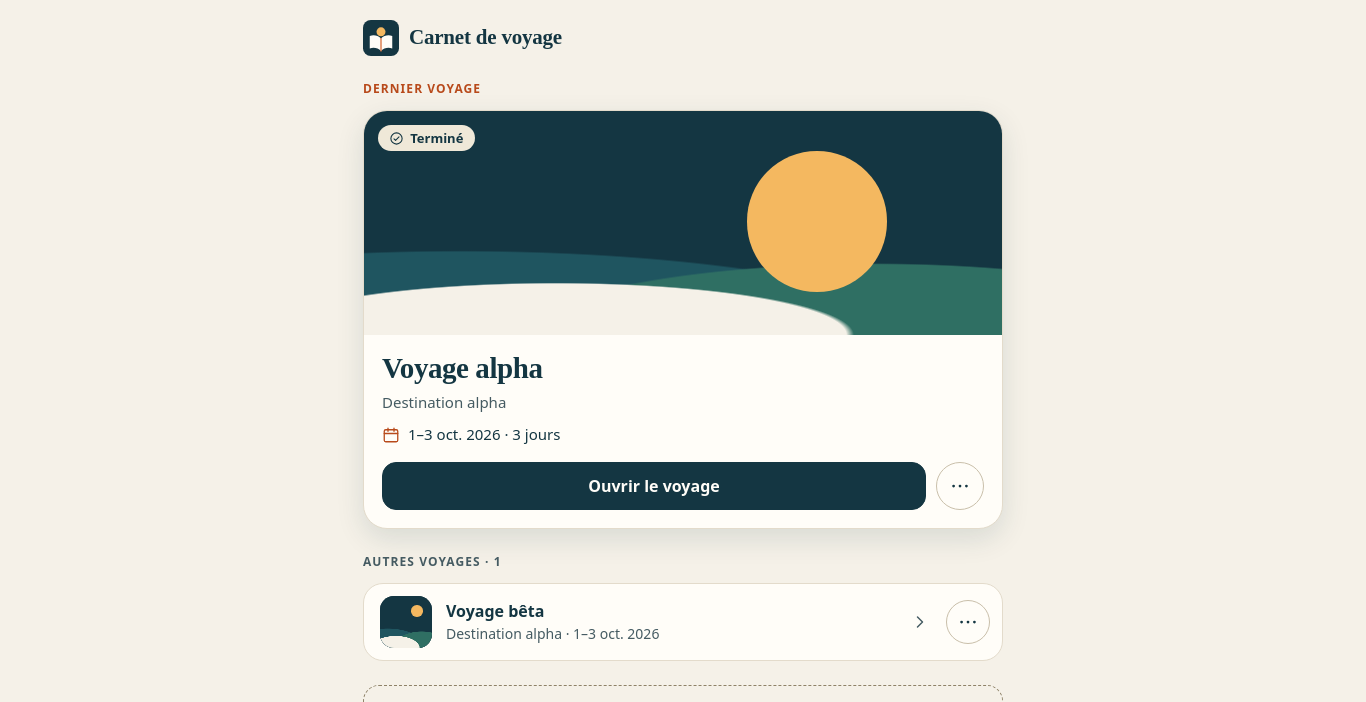
Scenario: App › charge uniquement le voyage sélectionné parmi plusieurs entrées
The width and height of the screenshot is (1366, 702).
Click the button with aria-label "Ouvrir Voyage bêta" at (651, 622), box [364,584,938,660]
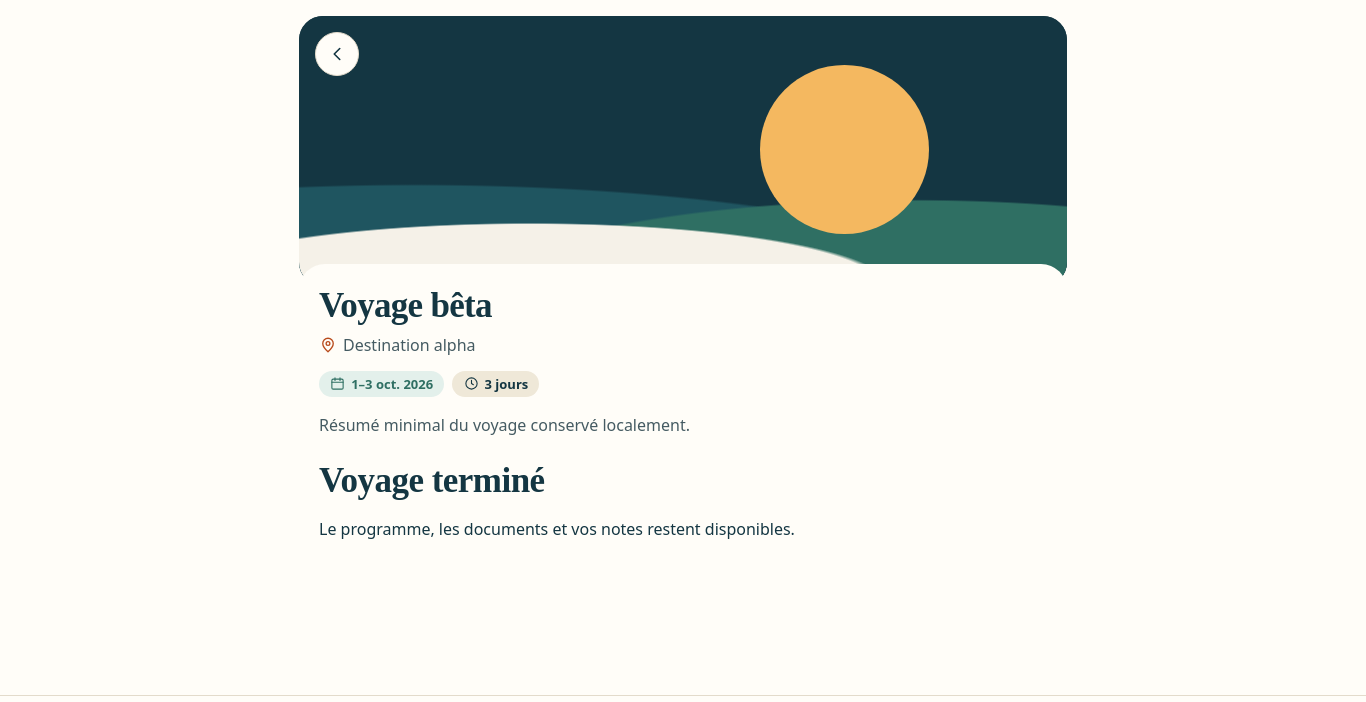
Expected: the heading "Voyage bêta" is shown, [319,286,492,325]
Result: the heading "Voyage alpha" is gone
